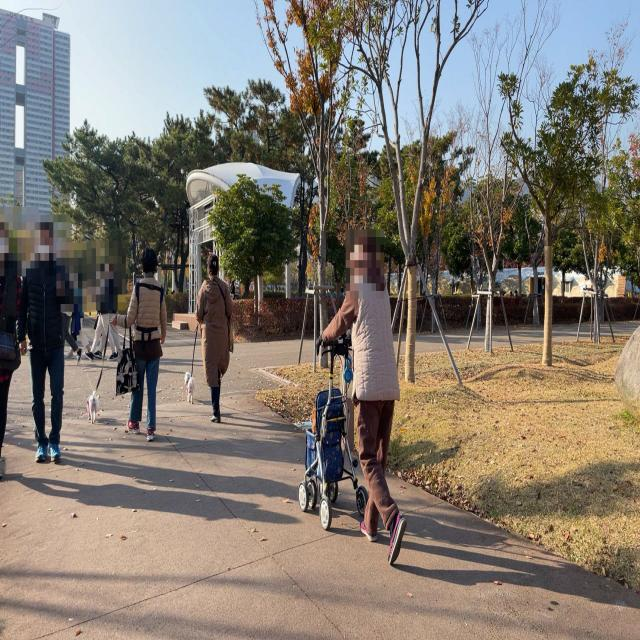Leashed_Dog: (86, 312, 141, 426), (184, 308, 209, 405)
